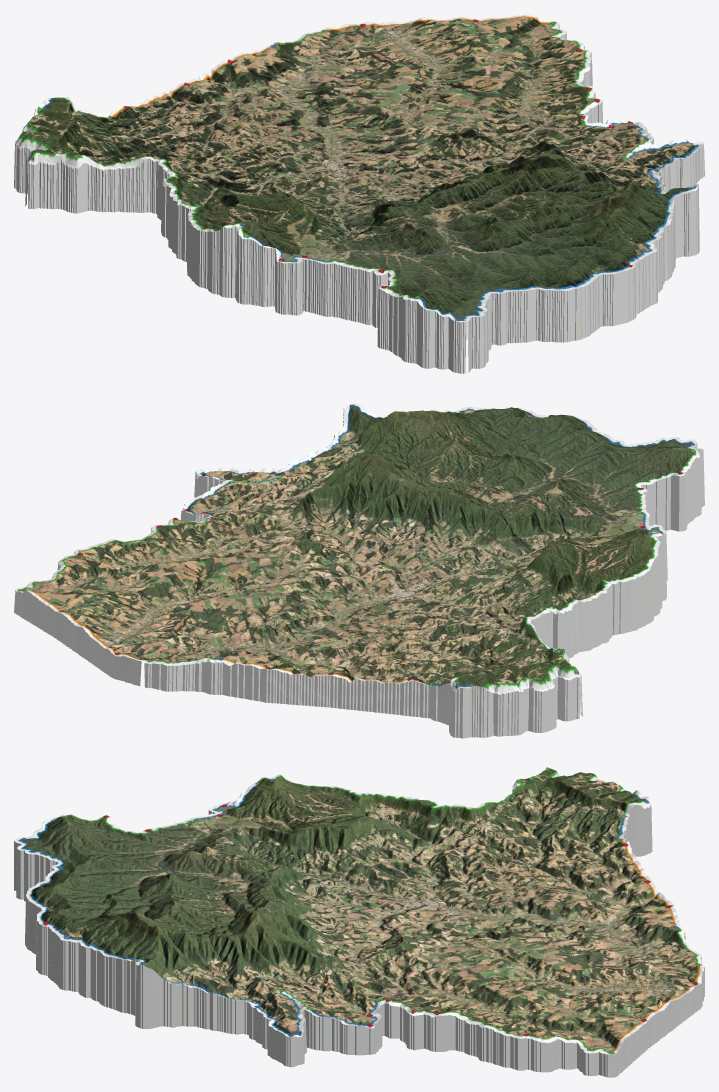
3 views of the same model, one above another, from view 1: azimuth 30°, elevation 25°; view 2: azimuth 150°, elevation 25°; view 3: azimuth 270°, elevation 25° (orthographic). The views are drawn at different scales.
Size of the model in its own units: 1 by 0.1314 by 1.11.
Materials: 1 (1 with a texture image).
